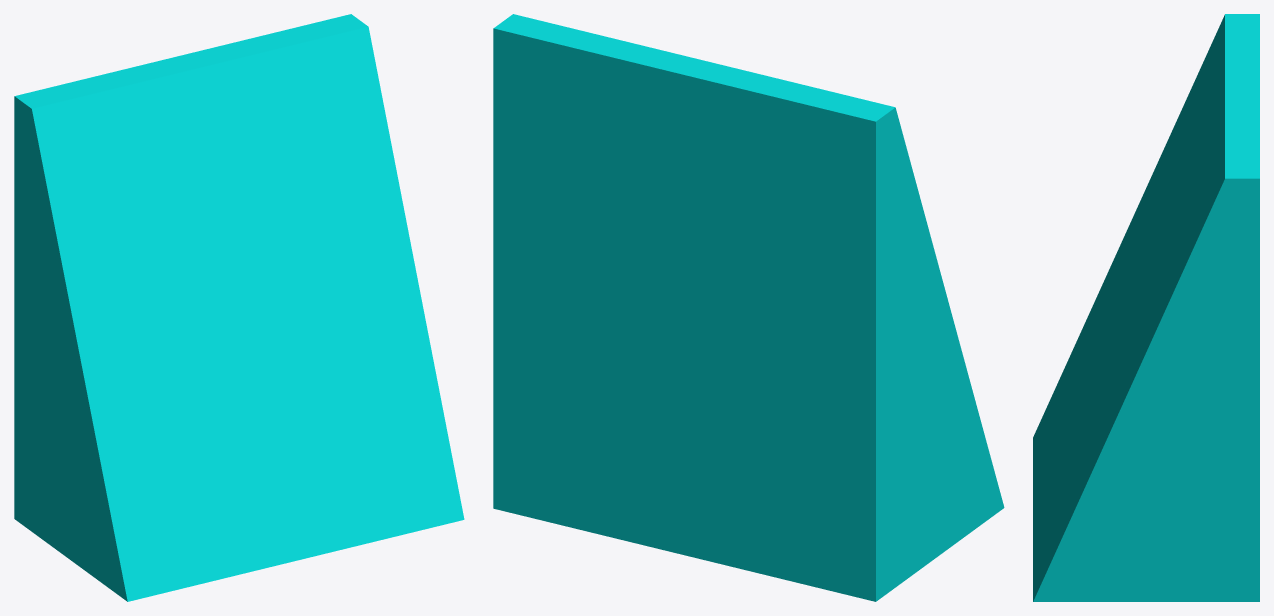
File: SM_Bld_Wall_Slope_02_Collision.fbx
3 views of the same model, side by side, from view 1: azimuth 30°, elevation 25°; view 2: azimuth 150°, elevation 25°; view 3: azimuth 270°, elevation 25° (orthographic). The views are drawn at different scales.
Visible parts, largest first — view 1: SM_Bld_Wall_Slope_02_Collision; view 2: SM_Bld_Wall_Slope_02_Collision; view 3: SM_Bld_Wall_Slope_02_Collision.
Boxes of the visible parts, x1,y1,x2,y2 form: SM_Bld_Wall_Slope_02_Collision: (14, 14, 464, 601); SM_Bld_Wall_Slope_02_Collision: (493, 14, 1004, 601); SM_Bld_Wall_Slope_02_Collision: (1033, 14, 1259, 601).
Size of the model in its own units: 250 by 300 by 146.
